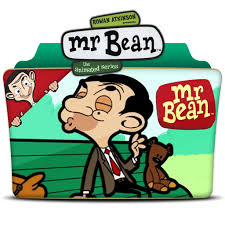mrbean: (57, 73, 153, 198), (5, 69, 41, 108)
